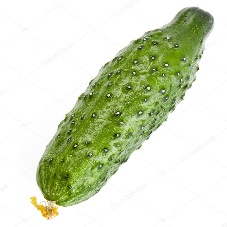cucumber: (36, 11, 215, 207)
